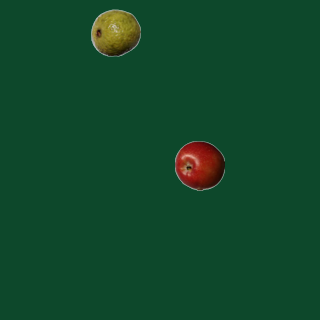Apple Braeburn: (174, 140, 224, 190)
Guava: (90, 7, 140, 57)
